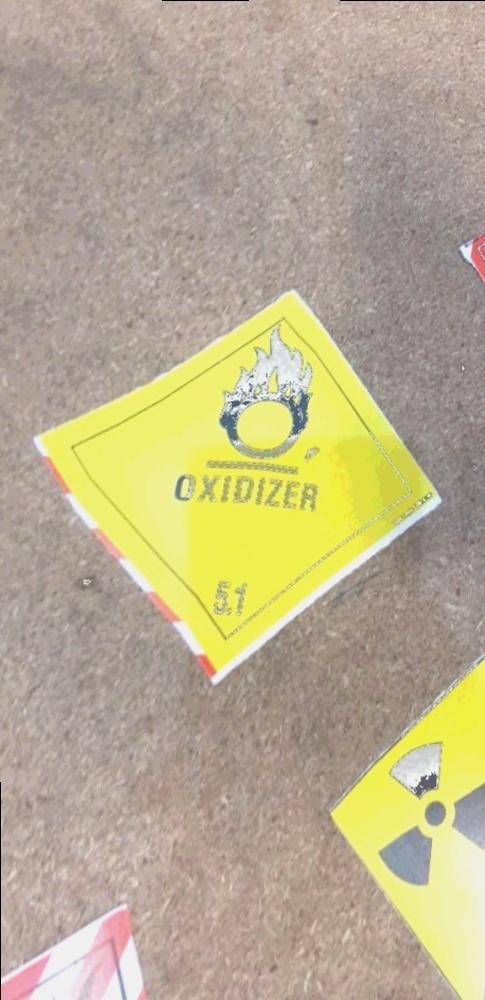oxidizer: (11, 270, 446, 708)
